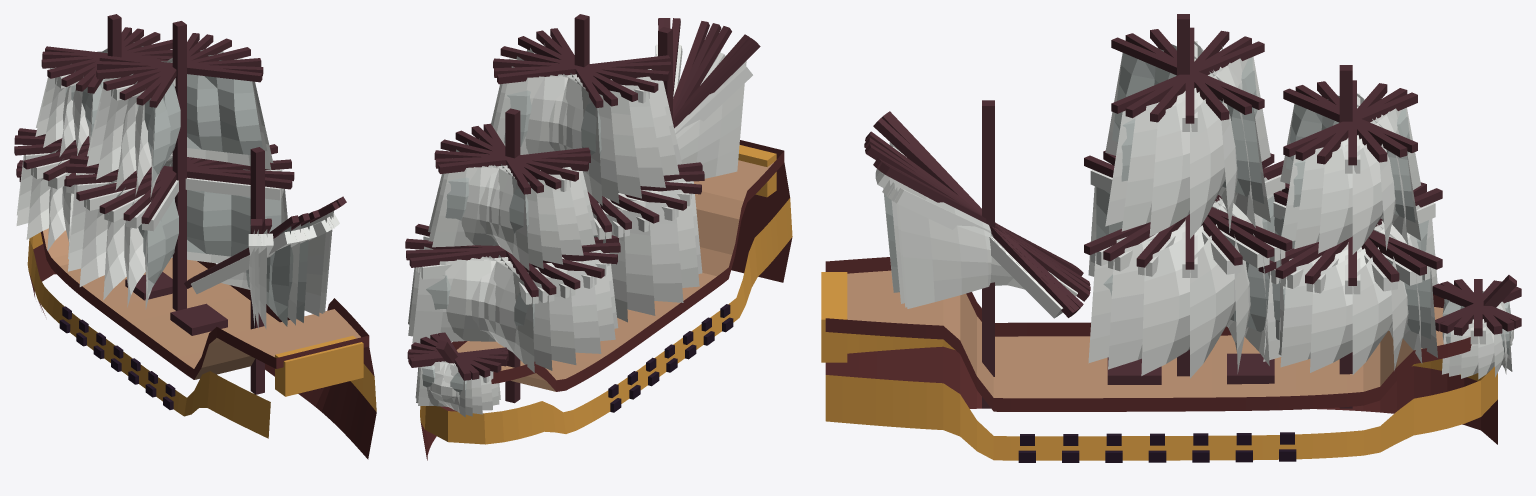
The model's file is ship.galleon.glb.
3 views of the same model, side by side, from view 1: azimuth 30°, elevation 25°; view 2: azimuth 150°, elevation 25°; view 3: azimuth 270°, elevation 25° (orthographic). The views are drawn at different scales.
Visible parts, largest first — view 1: hull, bulwark, gallery, main, full_irons_p0_main_top, full_irons_p1_main_course, full_irons_p1_main_top, mizzen, full_run_main_course, full_irons_p0_main_course, full_run_main_top, full_broad_s_main_course (+55 smaller); view 2: hull, full_close_s_lateen, bulwark, full_beam_s_fore_course, full_beam_p_fore_course, full_run_main_course, full_broad_p_main_top, full_beam_s_main_top, full_beam_p_main_top, full_broad_p_main_course, full_broad_p_fore_course, full_run_main_top (+62 smaller); view 3: hull, bulwark, full_close_p_lateen, full_broad_p_main_course, full_broad_p_main_top, full_run_main_course, full_beam_p_main_course, full_broad_p_fore_course, full_run_main_top, full_beam_p_main_top, full_run_fore_course, full_broad_p_fore_top (+55 smaller).
Boxes of the visible parts, bbox=[...] form: hull: bbox=[27, 228, 376, 459]; bulwark: bbox=[41, 231, 369, 379]; gallery: bbox=[275, 335, 363, 396]; main: bbox=[172, 21, 186, 310]; full_irons_p0_main_top: bbox=[144, 76, 262, 154]; full_irons_p1_main_course: bbox=[187, 190, 231, 256]; full_irons_p1_main_top: bbox=[137, 74, 222, 151]; mizzen: bbox=[250, 147, 264, 394]; full_run_main_course: bbox=[79, 162, 172, 286]; full_irons_p0_main_course: bbox=[138, 195, 281, 256]; full_run_main_top: bbox=[96, 54, 214, 179]; full_broad_s_main_course: bbox=[103, 160, 172, 300]; hull: bbox=[420, 160, 792, 460]; full_close_s_lateen: bbox=[674, 61, 746, 178]; bulwark: bbox=[452, 140, 784, 391]; full_beam_s_fore_course: bbox=[408, 250, 618, 341]; full_beam_p_fore_course: bbox=[488, 256, 552, 370]; full_run_main_course: bbox=[605, 197, 683, 302]; full_broad_p_main_top: bbox=[526, 48, 641, 198]; full_beam_s_main_top: bbox=[493, 69, 681, 164]; full_beam_p_main_top: bbox=[543, 43, 619, 203]; full_broad_p_main_course: bbox=[598, 203, 655, 315]; full_broad_p_fore_course: bbox=[484, 256, 576, 364]; full_run_main_top: bbox=[516, 56, 665, 187]; hull: bbox=[825, 270, 1497, 460]; bulwark: bbox=[825, 257, 1471, 411]; full_close_p_lateen: bbox=[896, 181, 991, 308]; full_broad_p_main_course: bbox=[1141, 203, 1226, 375]; full_broad_p_main_top: bbox=[1149, 46, 1222, 236]; full_run_main_course: bbox=[1190, 197, 1235, 378]; full_beam_p_main_course: bbox=[1108, 203, 1261, 369]; full_broad_p_fore_course: bbox=[1310, 229, 1403, 372]; full_run_main_top: bbox=[1190, 41, 1225, 238]; full_beam_p_main_top: bbox=[1121, 63, 1240, 231]; full_run_fore_course: bbox=[1352, 221, 1392, 374]; full_broad_p_fore_top: bbox=[1318, 114, 1383, 253].
Bounding box in the file's own units: 1.32 × 2.18 × 3.23.
